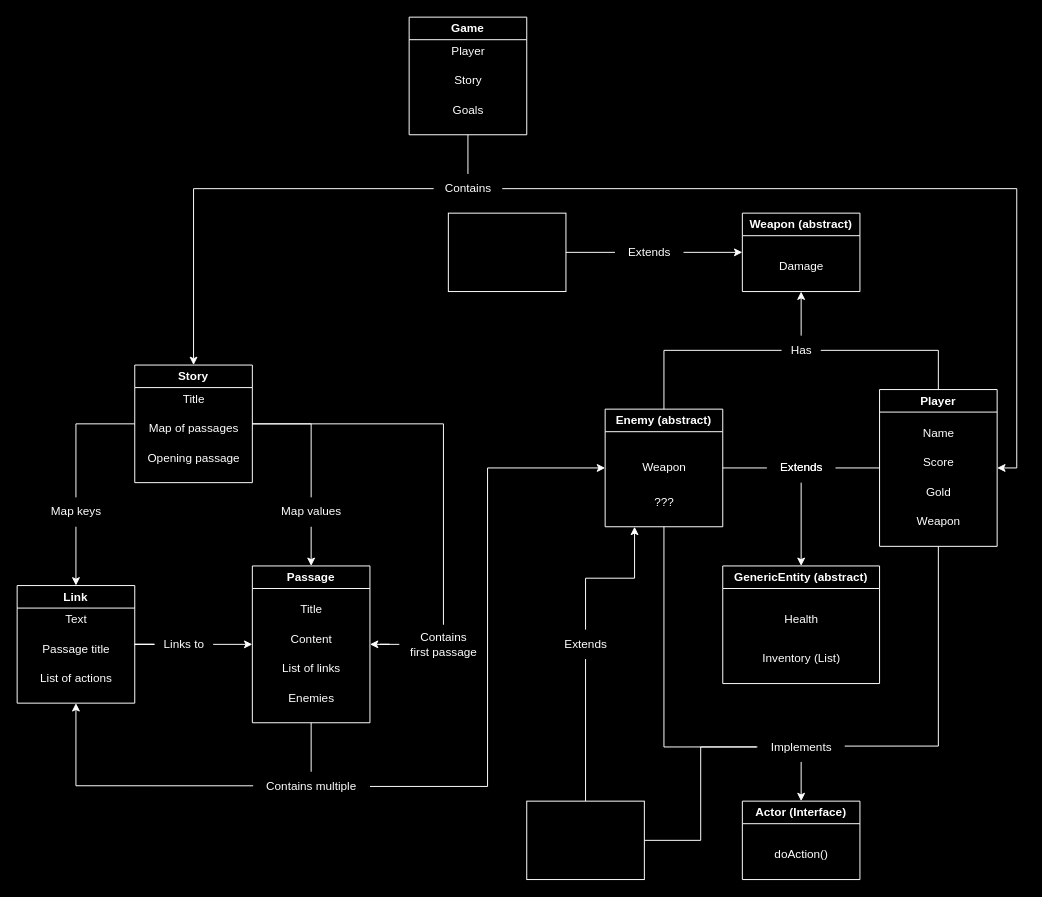
The diagram is 1042 pixels wide and 897 high, and some of its shapes have lost their labels. Here are the shapes that lost their labels. From the top down, the centre of each, then its label:
At (x=506, y=252): "Various weapons extending the abstract base class".
At (x=585, y=840): "Various enemies extending the abstract base class".
